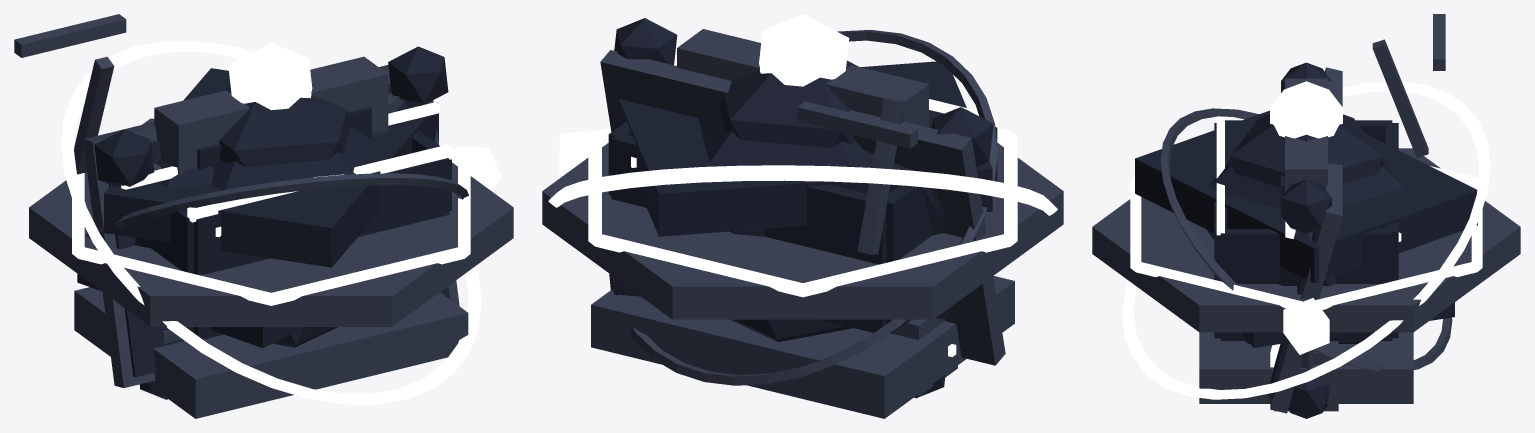
The model's file is services.glb.
The picture shows the model from 3 angles, left to right: view 1: azimuth 30°, elevation 25°; view 2: azimuth 150°, elevation 25°; view 3: azimuth 270°, elevation 25°; orthographic projection. The views are drawn at different scales.
Visible parts, largest first — view 1: Svc_Fullstack, Svc_Base, Svc_3d, Svc_Ecom, Svc_Support, Svc_Saas, Svc_Admin, Svc_Api; view 2: Svc_Fullstack, Svc_Base, Svc_3d, Svc_Ecom, Svc_Admin, Svc_Saas, Svc_Support, Svc_Api; view 3: Svc_Fullstack, Svc_Base, Svc_3d, Svc_Ecom, Svc_Saas, Svc_Admin, Svc_Api, Svc_Support.
Part boxes in pixels (bbox=[...]): Svc_Fullstack: bbox=[74, 43, 468, 418]; Svc_Base: bbox=[29, 118, 513, 326]; Svc_3d: bbox=[61, 41, 501, 404]; Svc_Ecom: bbox=[14, 14, 452, 339]; Svc_Support: bbox=[154, 56, 388, 174]; Svc_Saas: bbox=[135, 81, 383, 398]; Svc_Admin: bbox=[83, 65, 459, 387]; Svc_Api: bbox=[94, 46, 448, 399]; Svc_Fullstack: bbox=[591, 14, 1014, 418]; Svc_Base: bbox=[542, 127, 1063, 319]; Svc_3d: bbox=[548, 30, 1057, 385]; Svc_Ecom: bbox=[608, 98, 997, 333]; Svc_Admin: bbox=[600, 50, 1005, 365]; Svc_Saas: bbox=[719, 55, 957, 396]; Svc_Support: bbox=[677, 29, 928, 127]; Svc_Api: bbox=[614, 18, 993, 398]; Svc_Fullstack: bbox=[1135, 81, 1477, 403]; Svc_Base: bbox=[1092, 148, 1520, 332]; Svc_3d: bbox=[1122, 81, 1490, 399]; Svc_Ecom: bbox=[1214, 14, 1445, 341]; Svc_Saas: bbox=[1230, 114, 1382, 411]; Svc_Admin: bbox=[1268, 67, 1342, 413]; Svc_Api: bbox=[1281, 62, 1331, 418]; Svc_Support: bbox=[1280, 78, 1327, 211].
Bounding box in the file's own units: 2.01 × 1.57 × 2.
